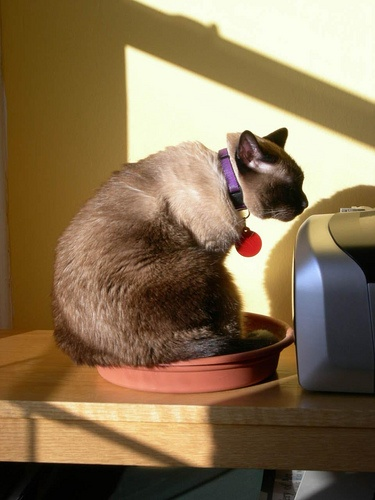cat: (52, 129, 361, 497)
